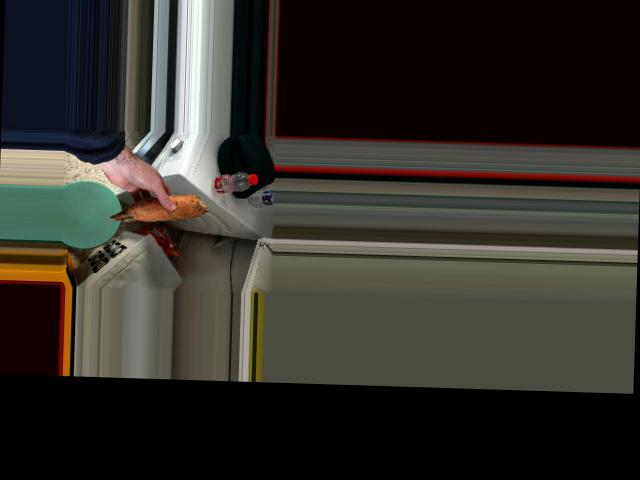sweet_potato: (107, 193, 202, 223)
